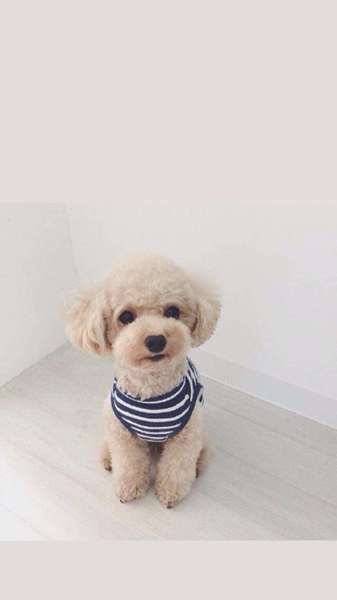dog: (71, 258, 242, 361)
